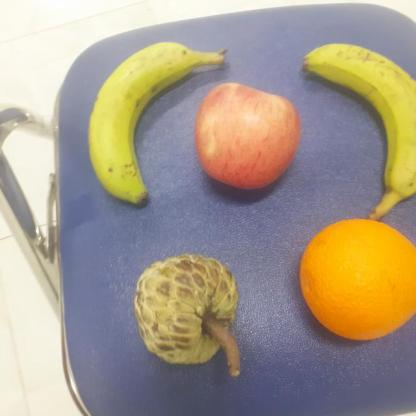annona: (123, 249, 246, 374)
apple: (185, 79, 305, 195)
banana: (82, 31, 199, 215), (302, 41, 416, 219)
orange: (300, 216, 416, 347)
